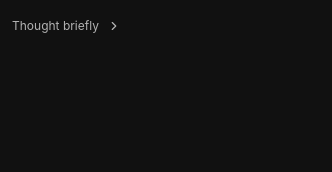
Test: provider thinking and tool disclosures › keeps brief thinking quiet and preserves a manual opening after it finishes
This screenshot has width=332, height=172.
Click the button "Thought briefly": (66, 26) [12, 12, 121, 40]
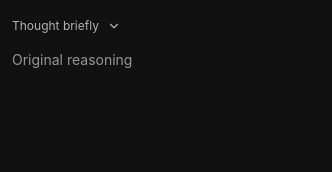
Expected: the text "Original reasoning" is shown, [12, 51, 132, 68]
Expected: the button "Thought briefly" is expanded, [12, 12, 121, 40]
